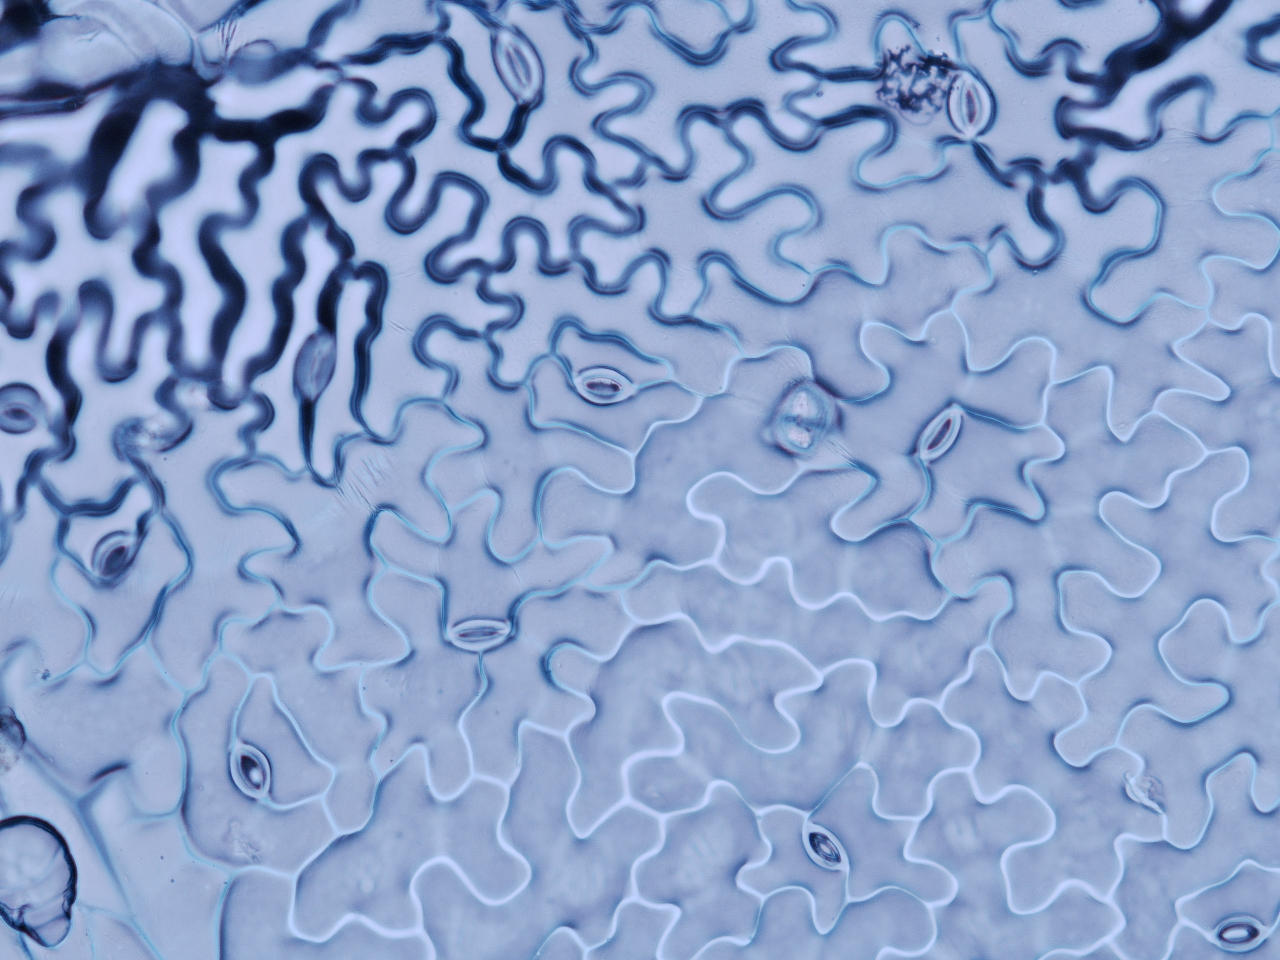estoma: (492, 29, 548, 106), (87, 528, 142, 584), (225, 738, 272, 800), (571, 366, 637, 410), (919, 401, 965, 465), (947, 71, 993, 133), (800, 823, 852, 875), (296, 330, 335, 399), (1209, 914, 1274, 954), (445, 617, 516, 651), (1, 403, 42, 434)
